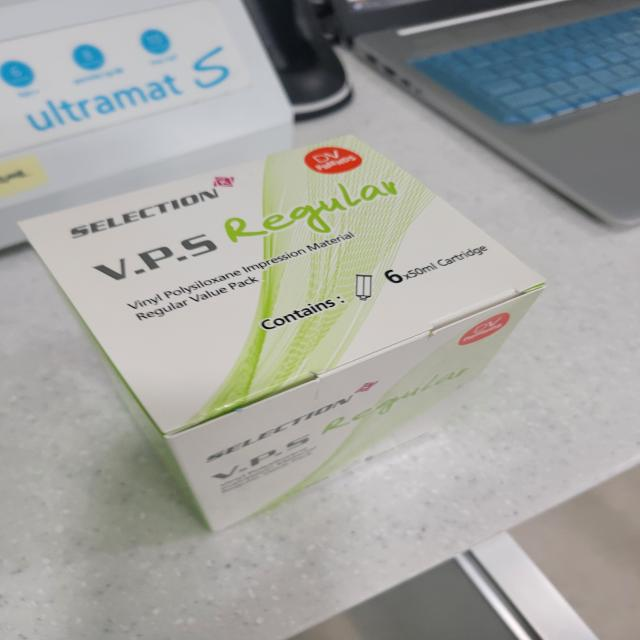impression: (27, 138, 548, 532)
